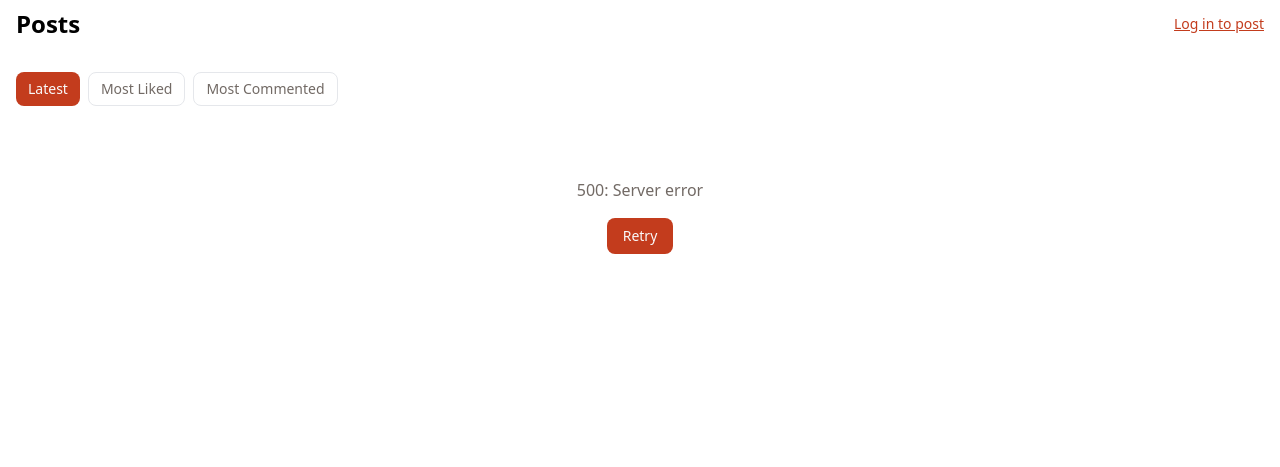
it: PostsPage › shows an error message and retries on demand
This screenshot has width=1280, height=467.
expect the text "500: Server error" is shown: met, box [577,179,703,201]
Click the button "Retry".
click(640, 236)  # box [607,218,673,254]
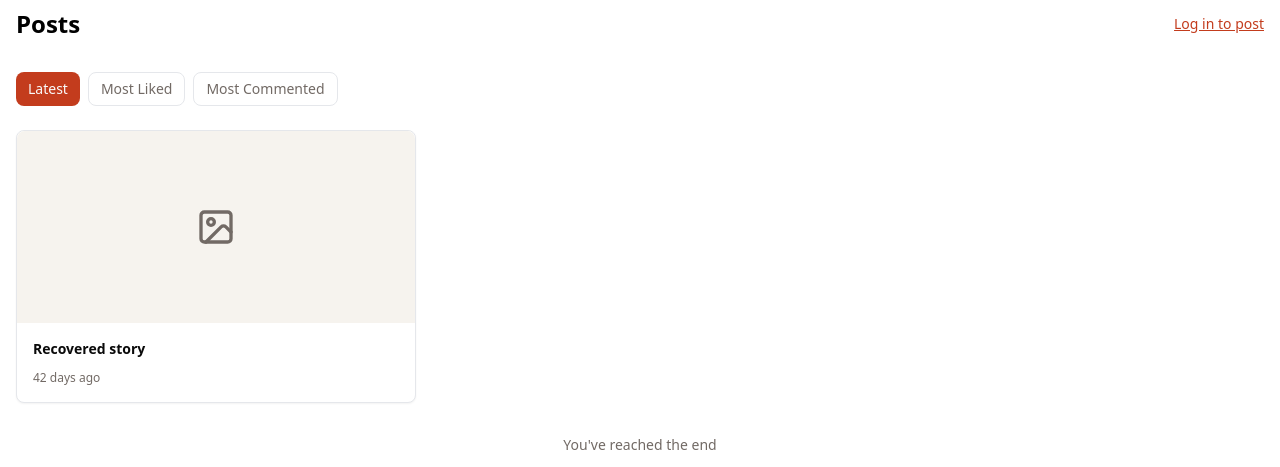
expect the heading "Recovered story" is shown: met, box [33,339,145,358]
